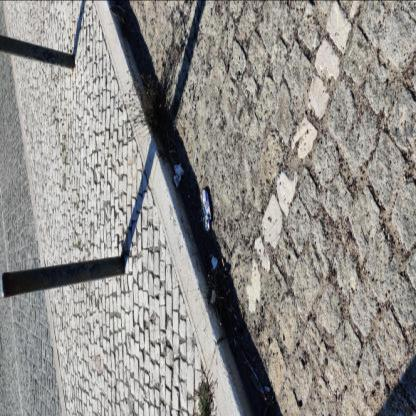Can: (201, 189, 211, 232)
Cigarette: (233, 338, 237, 350), (194, 149, 197, 163), (226, 288, 231, 296), (253, 354, 258, 362), (222, 257, 226, 266), (201, 208, 204, 218), (228, 307, 233, 313), (265, 386, 270, 392), (201, 205, 204, 211), (200, 193, 202, 201), (210, 254, 214, 258)
Paper: (174, 164, 184, 186), (211, 290, 217, 306), (211, 255, 217, 270)
Plastic bag - wrapper: (231, 340, 267, 400)
Pop tab: (205, 221, 208, 230)
